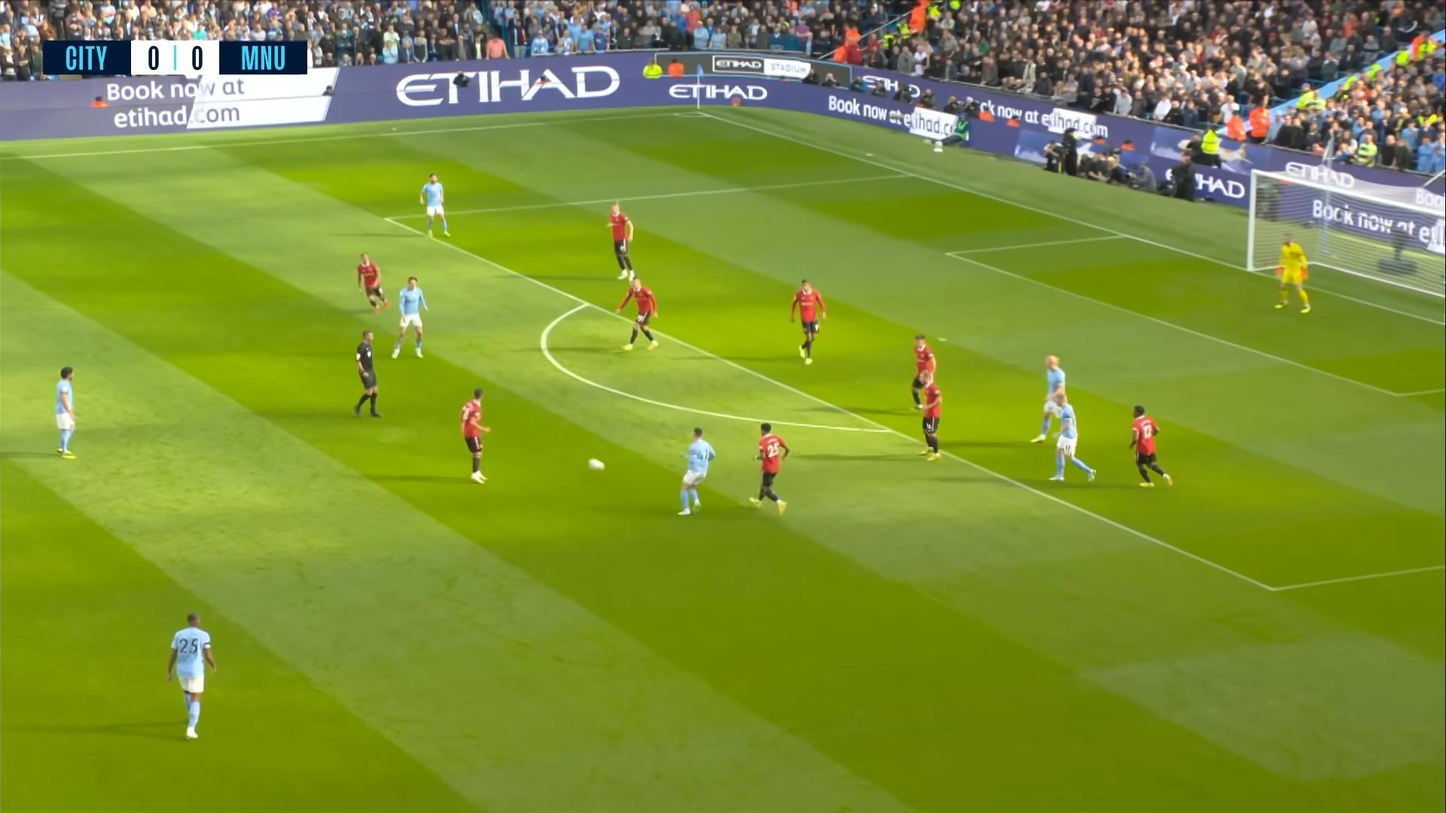Goalkeeper: (1274, 234, 1310, 312)
Player: (167, 613, 215, 738), (1051, 390, 1096, 483), (748, 423, 791, 514), (1130, 404, 1172, 487), (678, 426, 715, 515), (616, 277, 658, 350), (791, 279, 827, 364), (1031, 356, 1065, 442), (460, 387, 489, 483), (393, 277, 426, 359), (918, 373, 943, 460), (356, 251, 390, 312), (54, 367, 76, 460), (607, 200, 633, 278), (418, 172, 449, 237), (912, 333, 938, 406)
ball: (576, 449, 613, 488)
referee: (353, 330, 381, 418)
